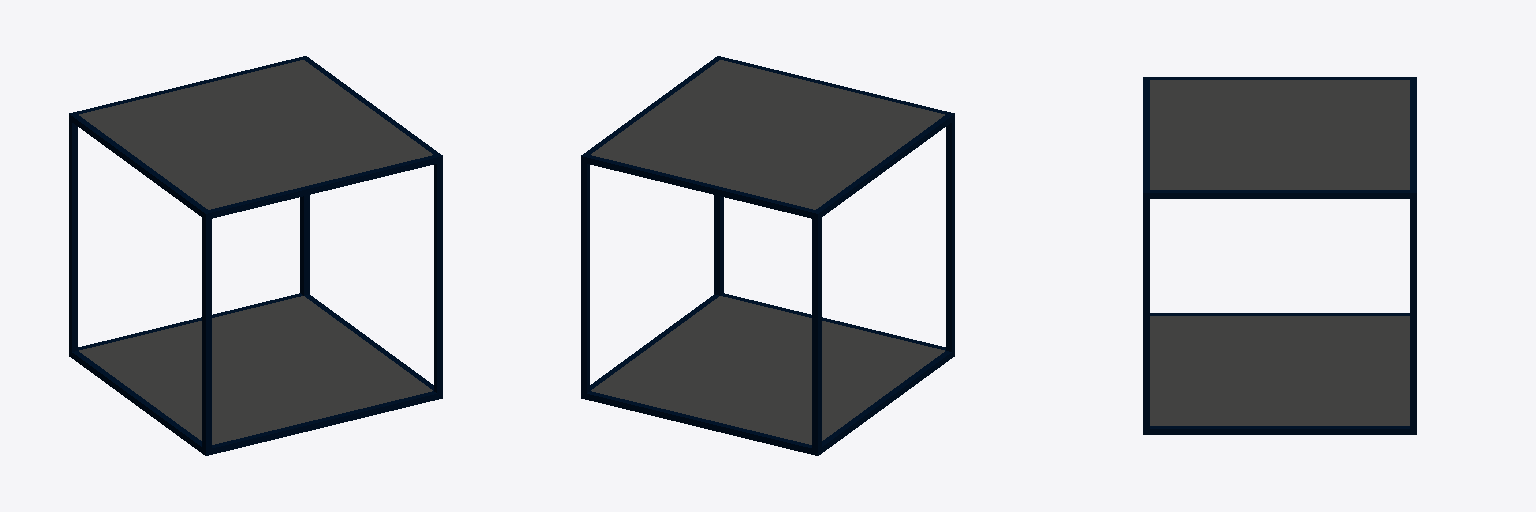
The model's file is room.obj.
3 renders of one model, left to right at view 1: azimuth 30°, elevation 25°; view 2: azimuth 150°, elevation 25°; view 3: azimuth 270°, elevation 25°, orthographic.
Visible parts, largest first — view 1: Cube.009_Cube.010, Cube.004_Cube.005, Cube.006_Cube.007, Cube.012_Cube.013, Cube.001_Cube.002, Cube.005_Cube.006, Cube.007_Cube.008, Cube.002_Cube.003, Cube.011_Cube.012, Cube.008_Cube.009, Cube.013_Cube.014, Cube.010_Cube.011 (+2 smaller); view 2: Cube.009_Cube.010, Cube.004_Cube.005, Cube.007_Cube.008, Cube.013_Cube.014, Cube_Cube.001, Cube.008_Cube.009, Cube.006_Cube.007, Cube.002_Cube.003, Cube.011_Cube.012, Cube.005_Cube.006, Cube.010_Cube.011, Cube.003_Cube.004 (+2 smaller); view 3: Cube.009_Cube.010, Cube.004_Cube.005, Cube.003_Cube.004, Cube.010_Cube.011, Cube.008_Cube.009, Cube.005_Cube.006, Cube.012_Cube.013, Cube.011_Cube.012, Cube.013_Cube.014, Cube.002_Cube.003.
Part boxes in pixels (x1,y1,x2,y2): Cube.009_Cube.010: (79,60,432,209); Cube.004_Cube.005: (79,296,432,444); Cube.006_Cube.007: (202,212,211,449); Cube.012_Cube.013: (202,155,442,219); Cube.001_Cube.002: (202,391,442,454); Cube.005_Cube.006: (434,157,442,393); Cube.007_Cube.008: (69,112,77,351); Cube.002_Cube.003: (72,351,211,455); Cube.011_Cube.012: (70,113,211,217); Cube.008_Cube.009: (300,195,309,295); Cube.013_Cube.014: (69,56,306,120); Cube.010_Cube.011: (302,57,442,161); Cube.009_Cube.010: (591,60,944,209); Cube.004_Cube.005: (591,296,944,444); Cube.007_Cube.008: (812,210,821,449); Cube.013_Cube.014: (581,155,821,219); Cube_Cube.001: (586,391,821,455); Cube.008_Cube.009: (581,156,589,393); Cube.006_Cube.007: (946,113,954,351); Cube.002_Cube.003: (812,350,954,455); Cube.011_Cube.012: (812,112,953,218); Cube.005_Cube.006: (714,195,723,295); Cube.010_Cube.011: (581,56,721,162); Cube.003_Cube.004: (581,294,718,399); Cube.009_Cube.010: (1150,80,1409,189); Cube.004_Cube.005: (1150,316,1409,425); Cube.003_Cube.004: (1143,426,1416,434); Cube.010_Cube.011: (1143,190,1415,198); Cube.008_Cube.009: (1410,191,1416,428); Cube.005_Cube.006: (1143,190,1149,428); Cube.012_Cube.013: (1143,77,1149,198); Cube.011_Cube.012: (1143,77,1416,79); Cube.013_Cube.014: (1410,80,1416,198); Cube.002_Cube.003: (1150,313,1409,315).
Size of the model in its own units: 20 by 19.5 by 20.